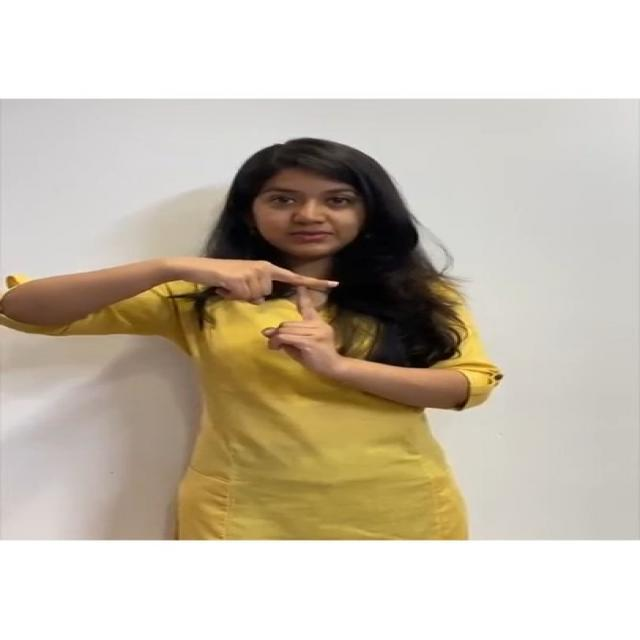T: (178, 248, 354, 390)
